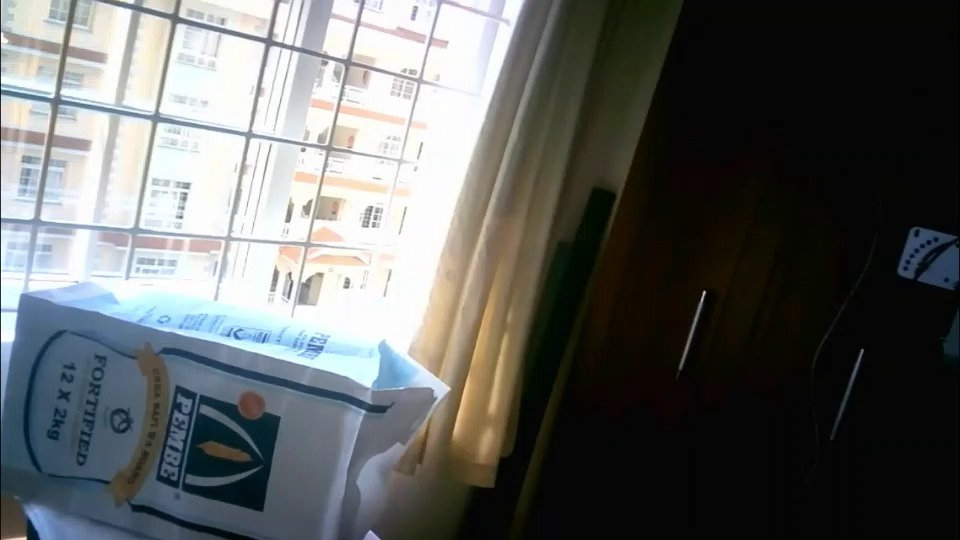wheat_flour_blue_label: (2, 281, 446, 540)
